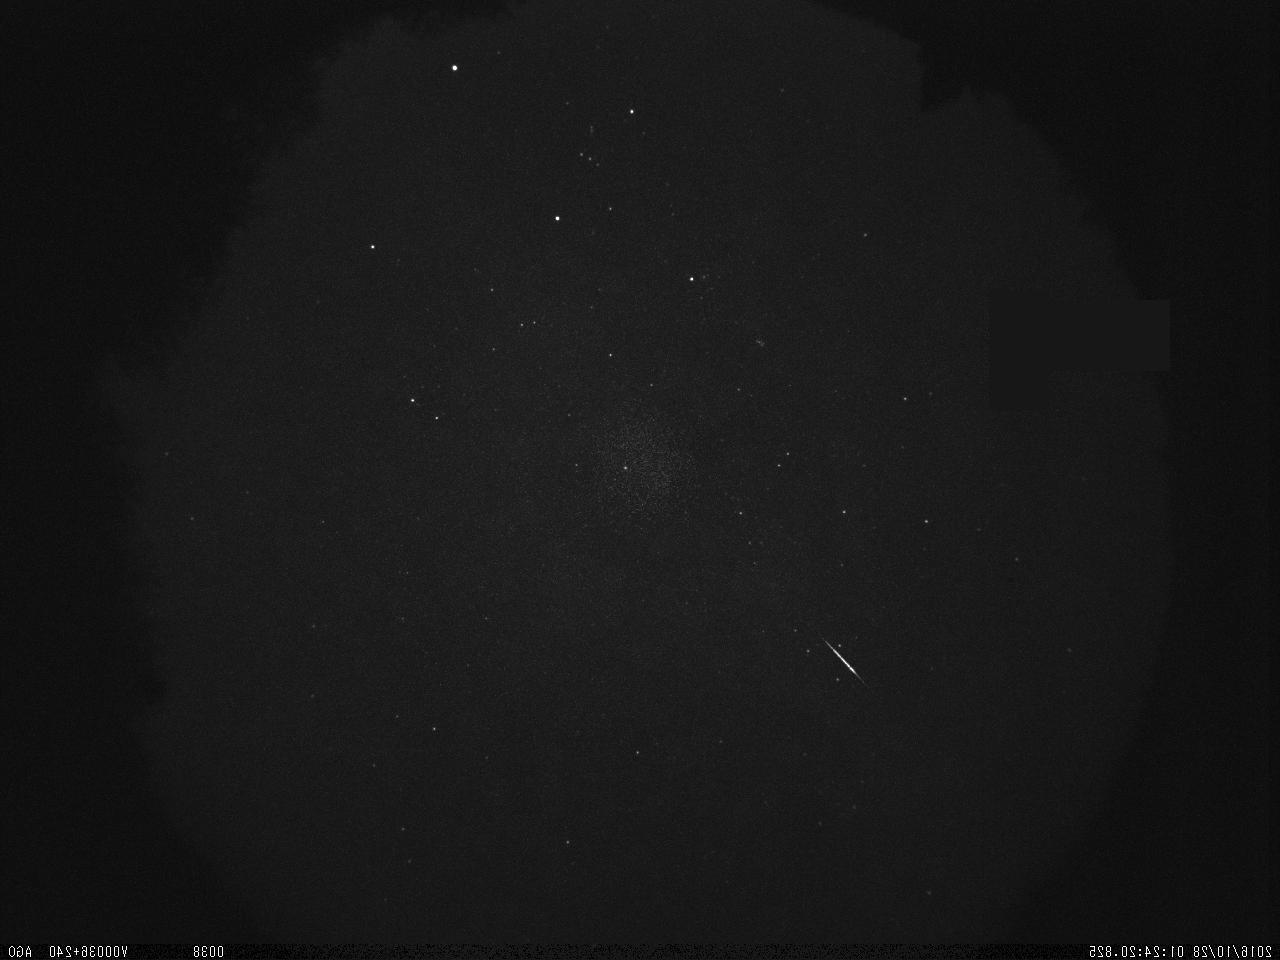meteor: (802, 628, 875, 686)
